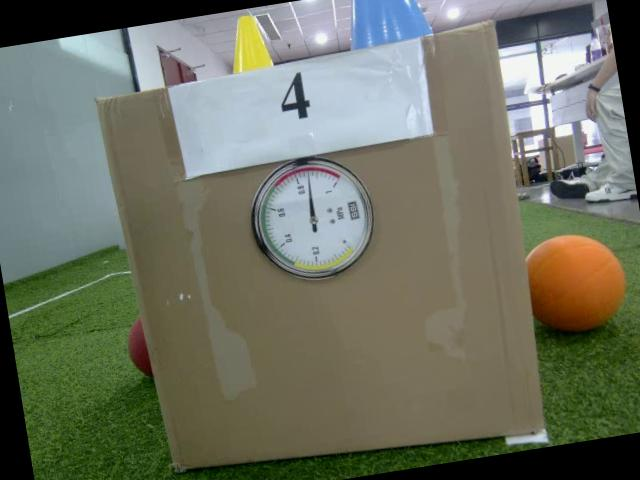4: (271, 68, 316, 124)
Dashboard: (241, 149, 381, 291)
blue_barrel: (339, 0, 434, 52)
orange_ball: (521, 225, 634, 343)
red_ball: (122, 318, 153, 382)
ssi: (344, 198, 360, 221)
yellow_barrel: (223, 12, 279, 76)
